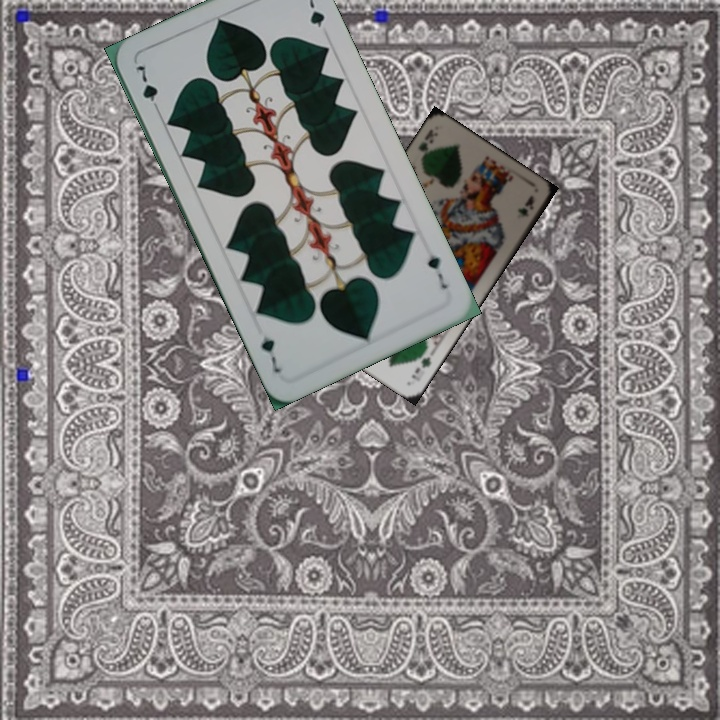G7: (131, 61, 164, 116), (423, 250, 451, 292)
GK: (407, 352, 433, 384), (414, 125, 436, 154)
